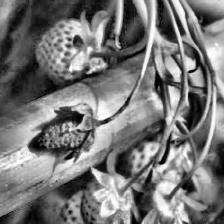Gray Mold: (35, 102, 102, 164)
